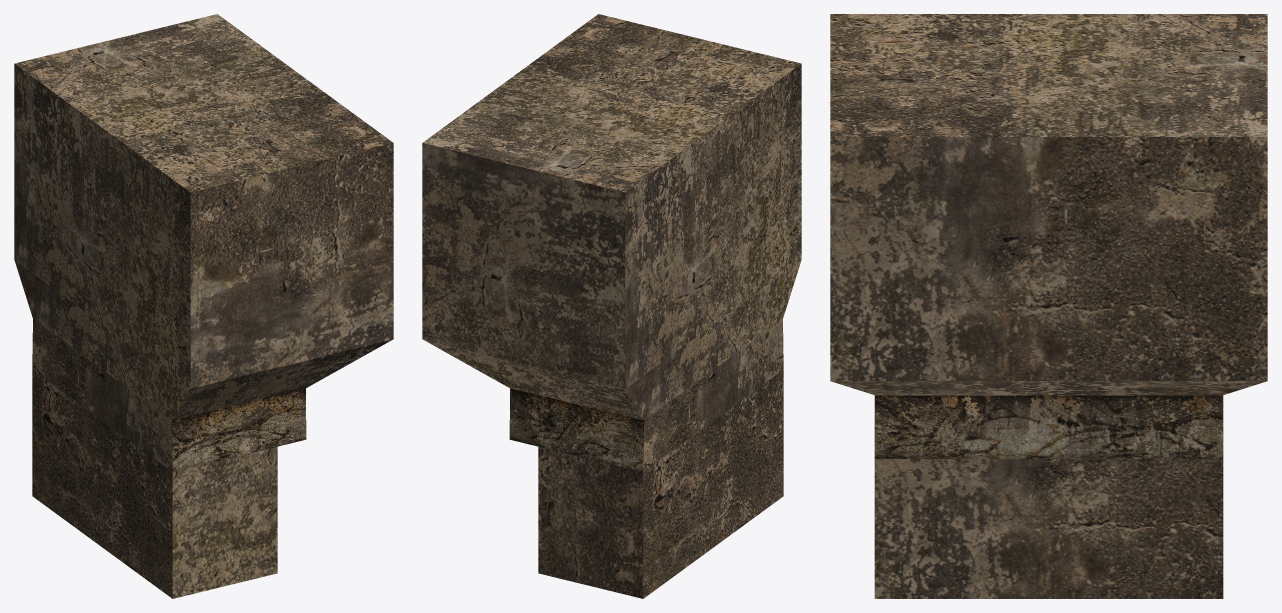
Rendered from materials_5_decoration_12.fbx.
3 renders of one model, left to right at view 1: azimuth 30°, elevation 25°; view 2: azimuth 150°, elevation 25°; view 3: azimuth 270°, elevation 25°, orthographic. The views are drawn at different scales.
Visible parts, largest first — view 1: materials_5_decoration_12; view 2: materials_5_decoration_12; view 3: materials_5_decoration_12.
Part boxes in pixels (bbox=[...]): materials_5_decoration_12: bbox=[14, 14, 393, 598]; materials_5_decoration_12: bbox=[422, 14, 801, 598]; materials_5_decoration_12: bbox=[830, 14, 1267, 598].
Bounding box in the file's own units: 22.07 × 43.58 × 33.14.
